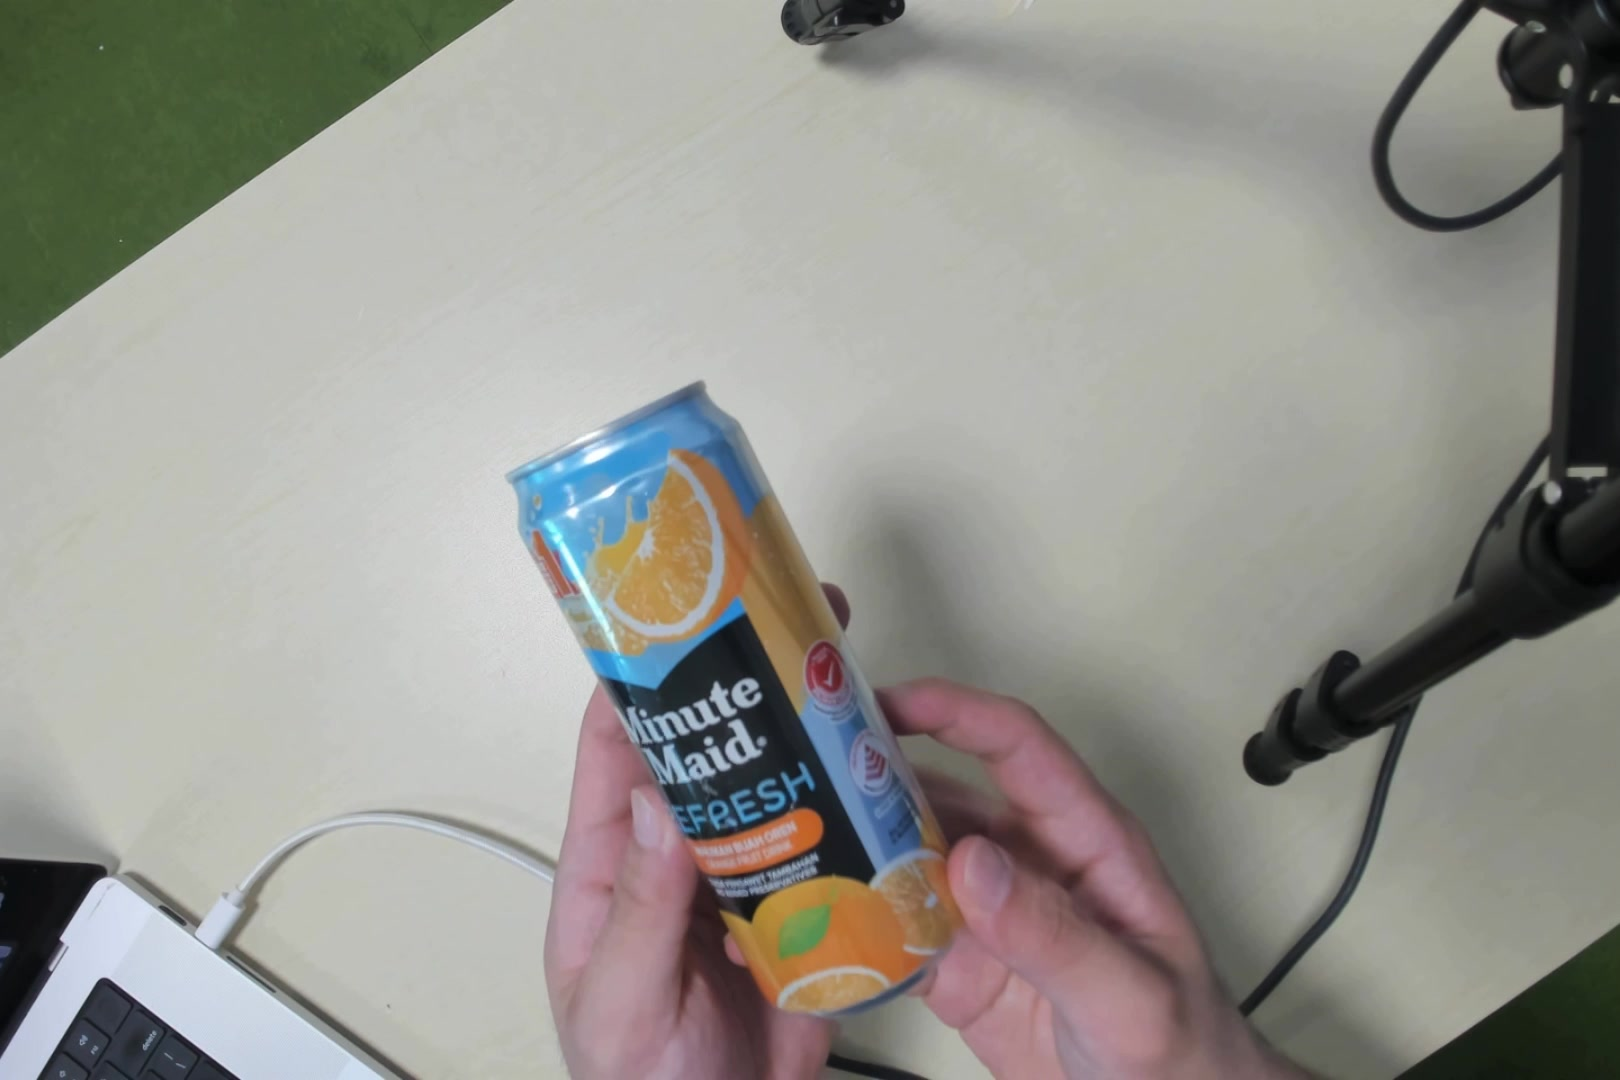SoftDrinks_200-299g_Halal_Healthy: (501, 381, 979, 999)
